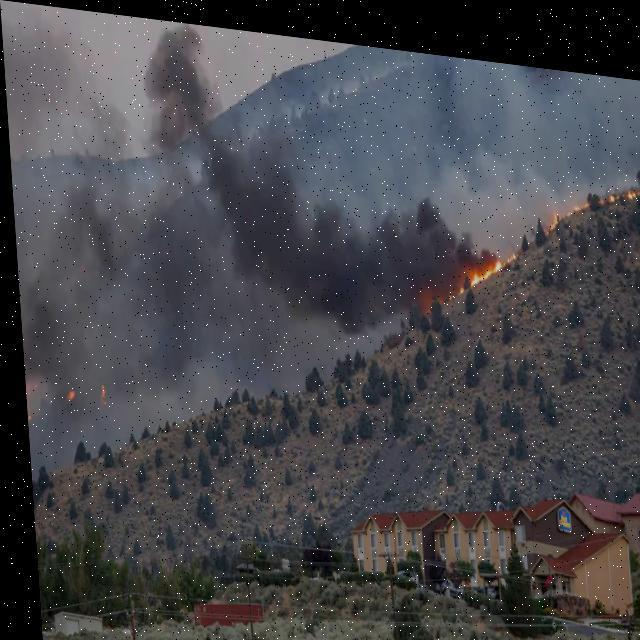Fire: (466, 236, 516, 278), (568, 180, 588, 199), (624, 162, 639, 183), (544, 195, 556, 218), (60, 388, 70, 402), (94, 380, 100, 399), (454, 272, 462, 284), (607, 175, 614, 188)
